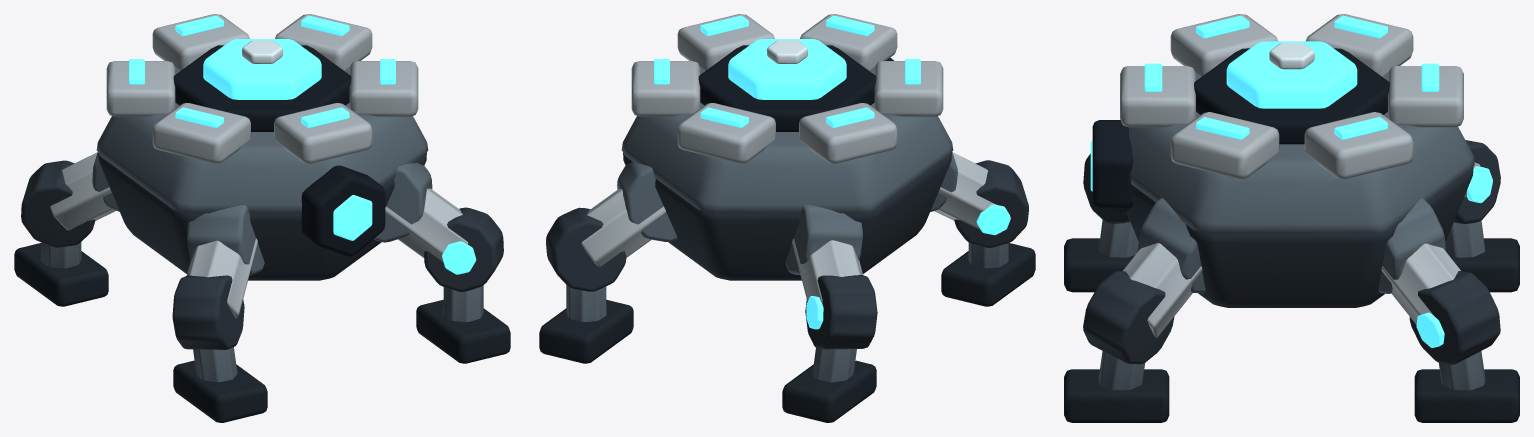
Rendered from t1_crawler.fbx.
3 views of the same model, side by side, from view 1: azimuth 30°, elevation 25°; view 2: azimuth 150°, elevation 25°; view 3: azimuth 270°, elevation 25° (orthographic). The views are drawn at different scales.
Parts seen in each view (by area): view 1: Body_Geometry, Knee_Geometry, Knee.003_Geometry, Leg_00_Geometry, Leg_03_Geometry, Knee.001_Geometry, Foot.003_Geometry, Foot_Geometry, Foot.001_Geometry, Leg_01_Geometry; view 2: Body_Geometry, Knee.001_Geometry, Leg_02_Geometry, Knee.002_Geometry, Leg_01_Geometry, Knee_Geometry, Foot.002_Geometry, Foot.001_Geometry, Foot_Geometry, Leg_00_Geometry; view 3: Body_Geometry, Knee.002_Geometry, Knee.003_Geometry, Leg_03_Geometry, Leg_02_Geometry, Foot.002_Geometry, Foot.003_Geometry, Knee.001_Geometry, Foot_Geometry, Foot.001_Geometry, Knee_Geometry.
Part boxes in pixels (x1,y1,x2,y2): Body_Geometry: (96, 14, 428, 280); Knee_Geometry: (172, 275, 244, 382); Knee.003_Geometry: (424, 207, 503, 321); Leg_00_Geometry: (186, 205, 264, 318); Leg_03_Geometry: (373, 162, 468, 262); Knee.001_Geometry: (21, 160, 95, 268); Foot.003_Geometry: (416, 299, 510, 363); Foot_Geometry: (173, 360, 267, 422); Foot.001_Geometry: (14, 243, 108, 306); Leg_01_Geometry: (50, 152, 119, 230); Body_Geometry: (621, 14, 953, 280); Knee.001_Geometry: (805, 275, 877, 382); Leg_02_Geometry: (581, 162, 677, 266); Knee.002_Geometry: (546, 207, 626, 321); Leg_01_Geometry: (785, 204, 862, 303); Knee_Geometry: (954, 160, 1028, 268); Foot.002_Geometry: (539, 299, 633, 363); Foot.001_Geometry: (782, 360, 876, 422); Foot_Geometry: (941, 243, 1035, 306); Leg_00_Geometry: (930, 152, 996, 229); Body_Geometry: (1090, 14, 1474, 307); Knee.002_Geometry: (1409, 271, 1500, 390); Knee.003_Geometry: (1083, 271, 1174, 390); Leg_03_Geometry: (1122, 197, 1205, 337); Leg_02_Geometry: (1378, 198, 1460, 324); Foot.002_Geometry: (1414, 369, 1519, 422); Foot.003_Geometry: (1064, 369, 1169, 422); Knee.001_Geometry: (1445, 140, 1500, 257); Foot_Geometry: (1064, 238, 1134, 292); Foot.001_Geometry: (1449, 238, 1519, 292); Knee_Geometry: (1083, 153, 1138, 257).
Size of the model in its own units: 1.32 by 1.02 by 1.43.
